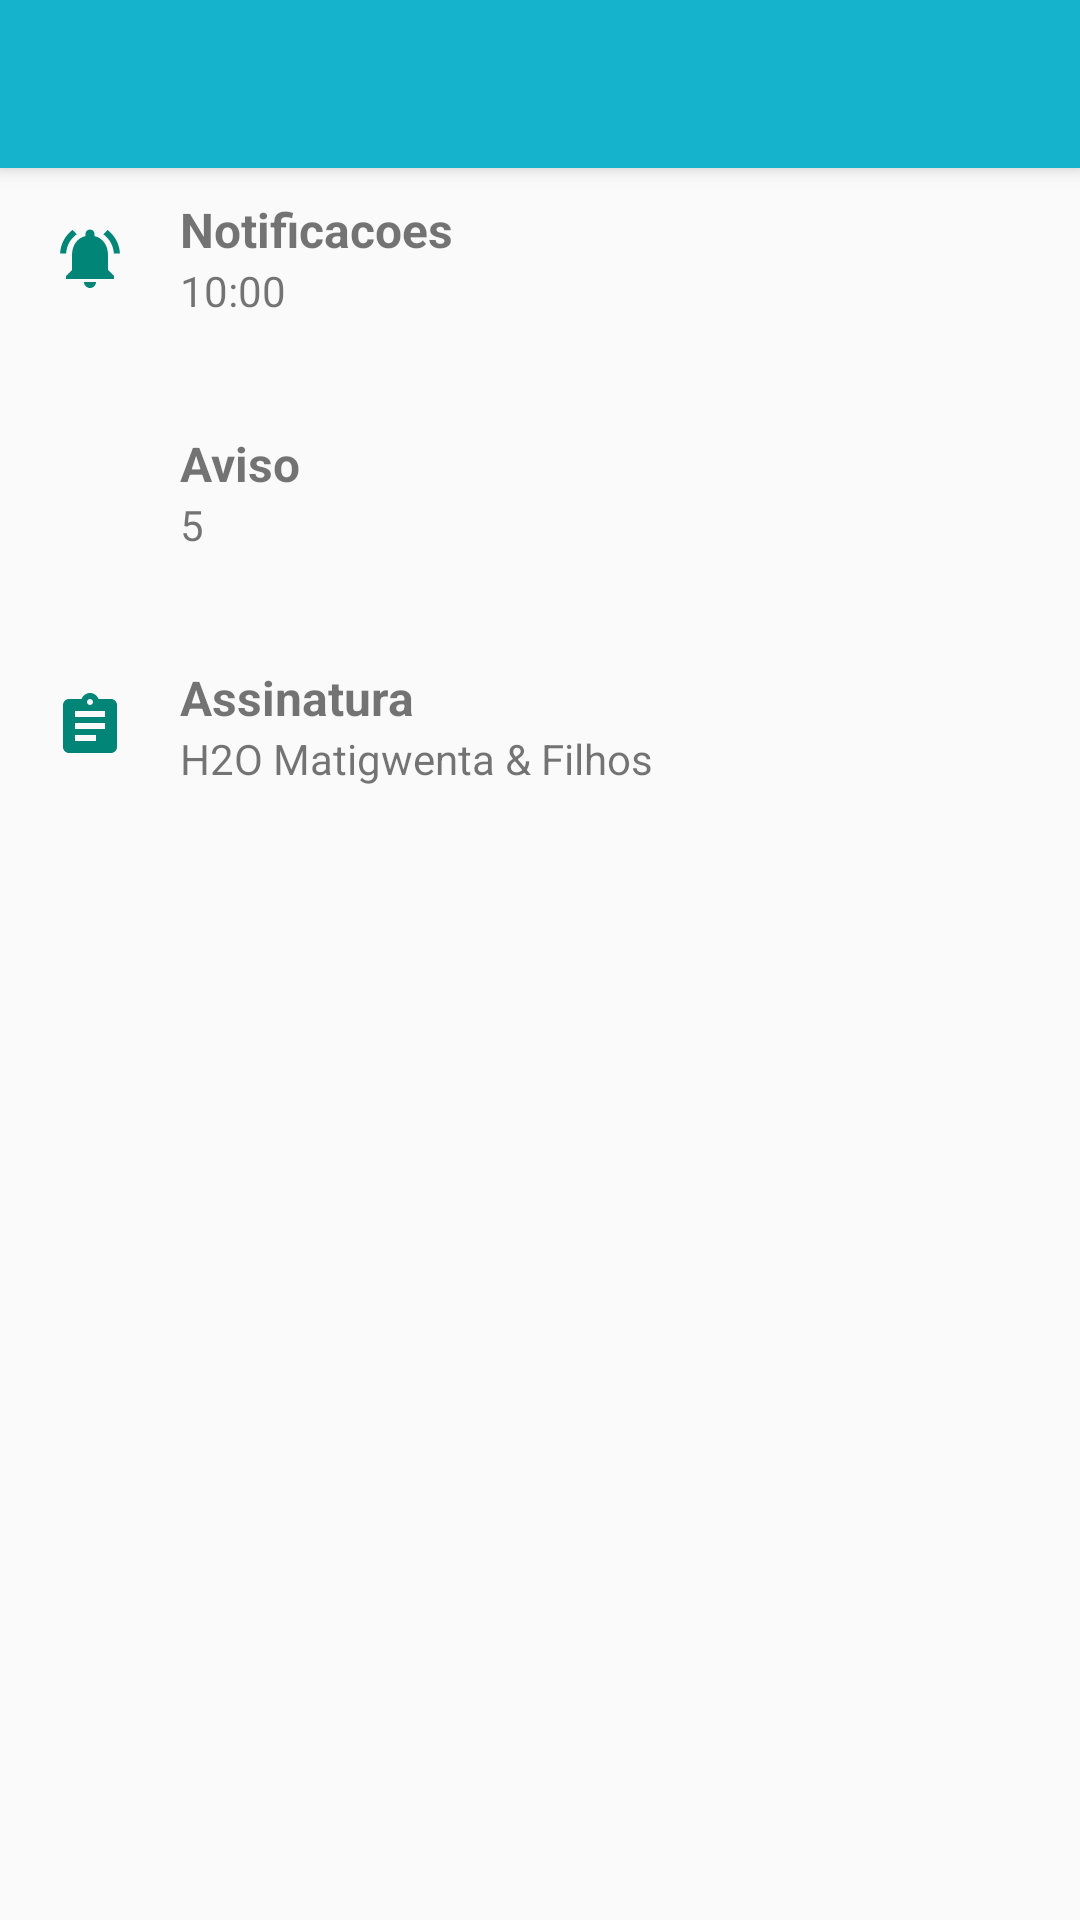

Locate icon controls on the screen. Image size 1080*1920, boxes as bbox=[x1, y1, x2, y2].
assignment: bbox=[63, 693, 117, 753]
notifications: bbox=[60, 229, 120, 288]
